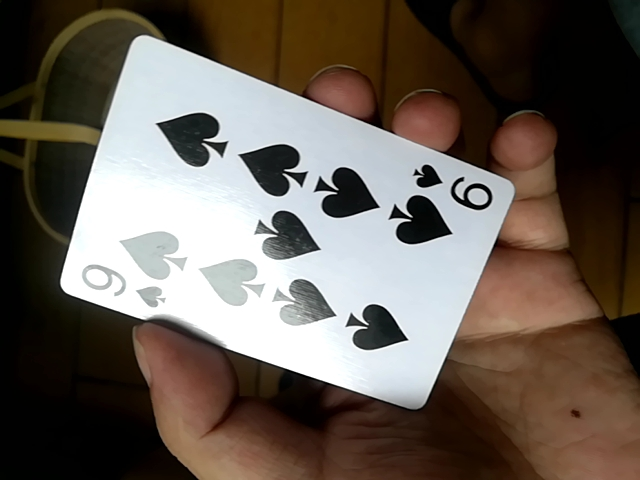ht 9: (59, 35, 526, 412)
